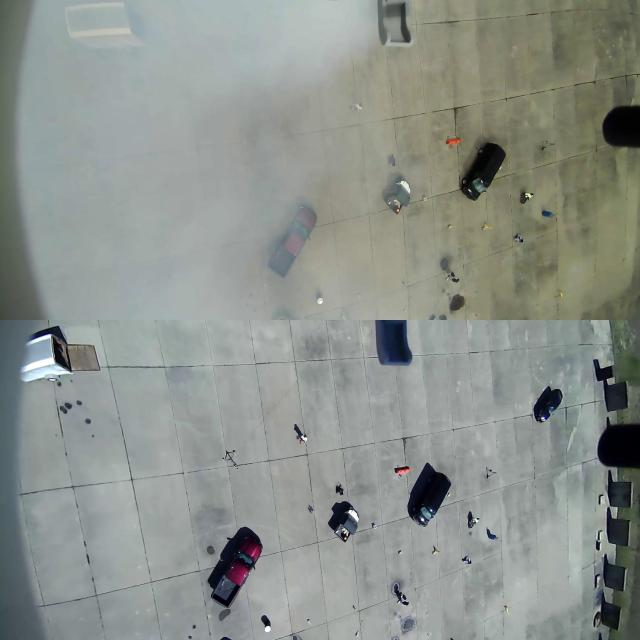bike: (466, 508, 474, 530)
car: (263, 193, 323, 274), (211, 516, 259, 610), (467, 130, 505, 211), (413, 466, 450, 531), (534, 379, 568, 426)
